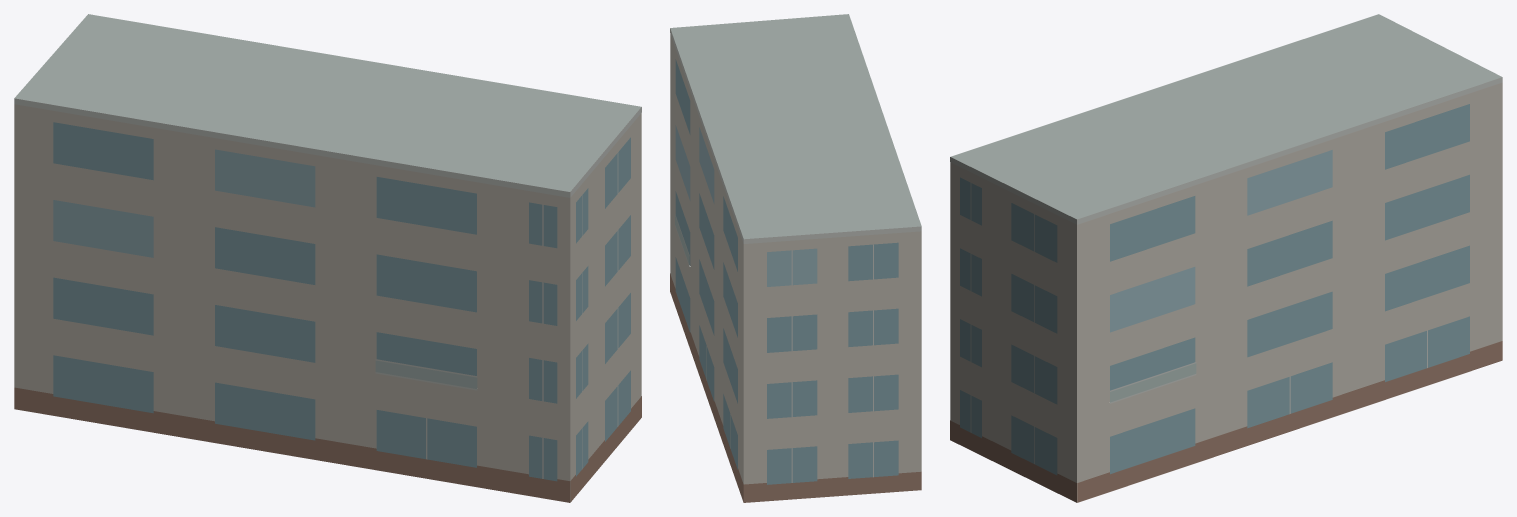
Rendered from survey-upis-33037438.glb.
The picture shows the model from 3 angles, left to right: view 1: azimuth 30°, elevation 25°; view 2: azimuth 150°, elevation 25°; view 3: azimuth 270°, elevation 25°; orthographic projection. The views are drawn at different scales.
Visible parts, largest first — view 1: survey-upis-33037438.tmp; view 2: survey-upis-33037438.tmp; view 3: survey-upis-33037438.tmp.
Boxes of the visible parts, bbox=[...] form: survey-upis-33037438.tmp: bbox=[14, 14, 641, 502]; survey-upis-33037438.tmp: bbox=[670, 14, 921, 502]; survey-upis-33037438.tmp: bbox=[950, 14, 1502, 502].
Bounding box in the file's own units: 20.31 × 13.05 × 23.07.
